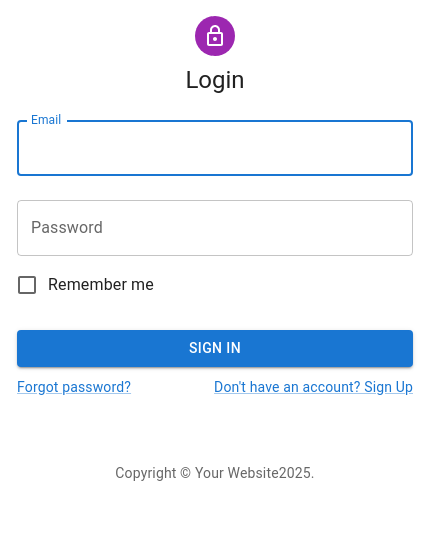
Test: Check Login error
The width and height of the screenshot is (431, 538).
In the field labelled "Email": (215, 148) [17,120,413,176], type "test@example.com"
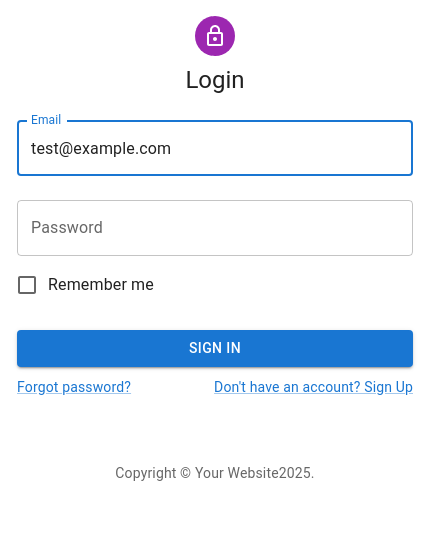
In the password field labelled "Password": (215, 228) [17,200,413,256], type "wrongpassword"
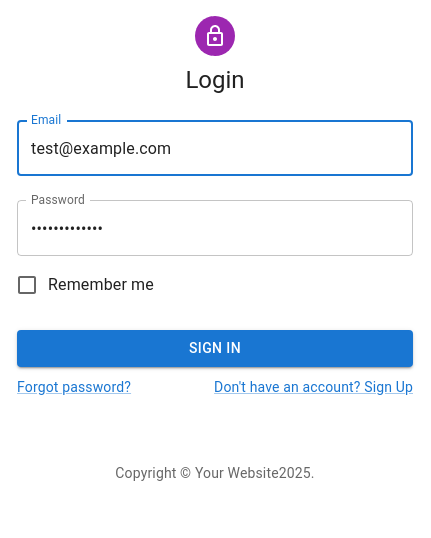
Click the button with aria-label "login": (215, 348) [17,330,413,366]
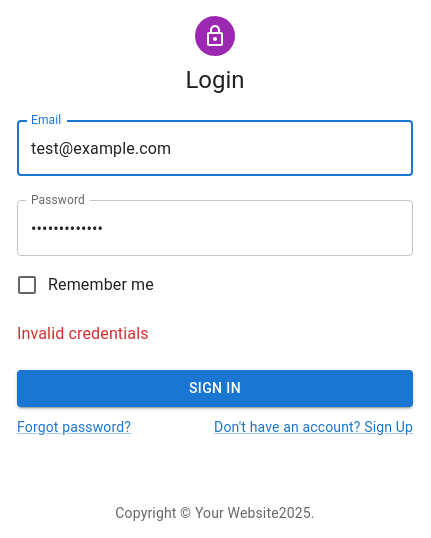
Check: the text "Invalid credentials" is shown, box [17,324,149,343]
